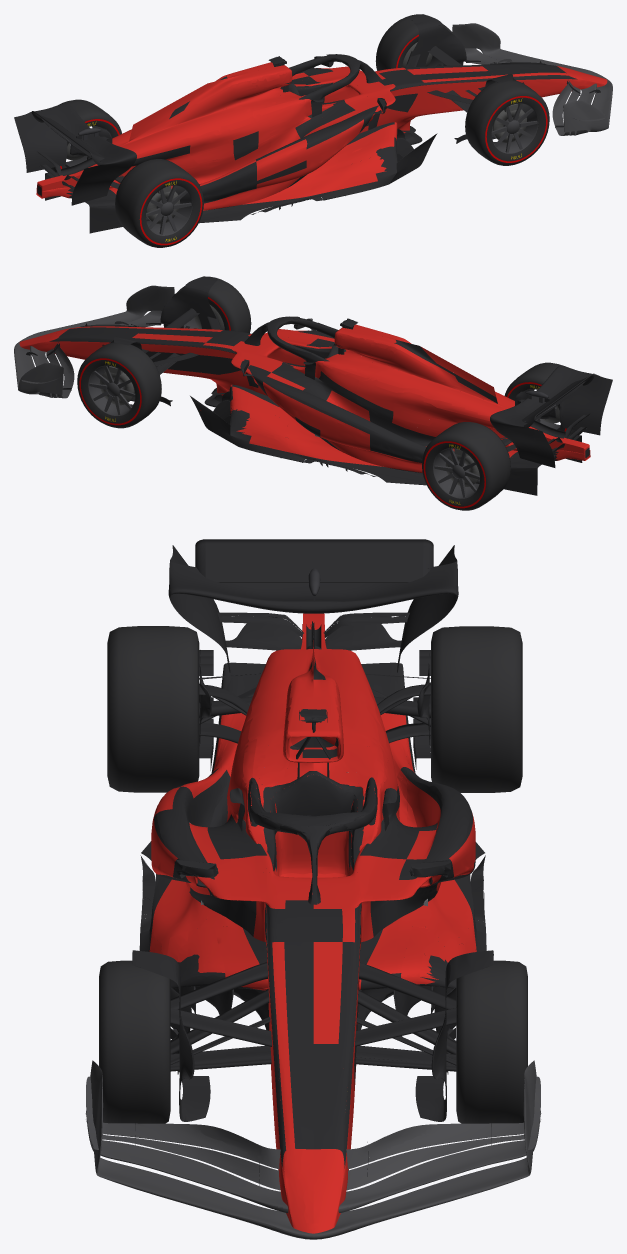
File: f1-despiece.glb
3 views of the same model, one above another, from view 1: azimuth 30°, elevation 25°; view 2: azimuth 150°, elevation 25°; view 3: azimuth 270°, elevation 25° (orthographic). The views are drawn at different scales.
Visible parts, largest first — view 1: chasis, tapa_motor, pontones, ala_trasera, ala_delantera, rueda_RR, rueda_FR, suelo, carroceria_baja, suspension_del, rueda_FL, rueda_RL (+2 smaller); view 2: chasis, tapa_motor, pontones, ala_trasera, ala_delantera, rueda_RL, rueda_FL, suelo, carroceria_baja, suspension_del, rueda_FR, rueda_RR (+2 smaller); view 3: chasis, ala_delantera, pontones, suspension_del, ala_trasera, rueda_RR, rueda_RL, tapa_motor, rueda_FL, rueda_FR, suelo, drs_flap (+2 smaller).
Part boxes in pixels (left/top/right/bottom): chasis: left=244, top=54, right=516, bottom=153; tapa_motor: left=106, top=70, right=311, bottom=194; pontones: left=199, top=56, right=401, bottom=196; ala_trasera: left=14, top=102, right=136, bottom=205; ala_delantera: left=452, top=23, right=612, bottom=135; rueda_RR: left=115, top=159, right=203, bottom=247; rueda_FR: left=465, top=80, right=549, bottom=165; suelo: left=45, top=126, right=437, bottom=233; carroceria_baja: left=203, top=141, right=412, bottom=210; suspension_del: left=405, top=14, right=522, bottom=143; rueda_FL: left=375, top=14, right=454, bottom=70; rueda_RL: left=44, top=99, right=121, bottom=172; chasis: left=110, top=316, right=382, bottom=416; tapa_motor: left=315, top=332, right=520, bottom=457; pontones: left=229, top=318, right=426, bottom=459; ala_trasera: left=490, top=365, right=612, bottom=467; ala_delantera: left=14, top=285, right=174, bottom=398; rueda_RL: left=422, top=422, right=510, bottom=510; rueda_FL: left=77, top=342, right=161, bottom=428; suelo: left=190, top=388, right=582, bottom=495; carroceria_baja: left=214, top=405, right=422, bottom=472; suspension_del: left=104, top=276, right=221, bottom=410; rueda_FR: left=172, top=276, right=251, bottom=333; rueda_RR: left=504, top=362, right=582, bottom=435; chasis: left=231, top=697, right=397, bottom=1113; ala_delantera: left=85, top=1060, right=541, bottom=1239; pontones: left=151, top=715, right=475, bottom=995; suspension_del: left=132, top=950, right=493, bottom=1121; ala_trasera: left=168, top=539, right=458, bottom=672; rueda_RR: left=107, top=626, right=199, bottom=792; rueda_RL: left=431, top=626, right=522, bottom=792; tapa_motor: left=222, top=621, right=406, bottom=825; rueda_FL: left=456, top=960, right=527, bottom=1123; rueda_FR: left=99, top=960, right=170, bottom=1123; suelo: left=139, top=662, right=486, bottom=1036; drs_flap: left=205, top=539, right=423, bottom=582.
Bounding box in the file's own units: 5.68 × 1.08 × 1.98.
